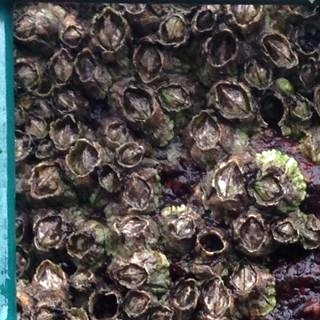Barnacle: (185, 113, 223, 154), (214, 81, 251, 120), (94, 10, 124, 51), (251, 171, 283, 207), (66, 139, 97, 175), (214, 161, 243, 199), (31, 163, 65, 195), (36, 262, 65, 299), (124, 172, 152, 209), (122, 88, 154, 120), (263, 35, 296, 66), (135, 41, 160, 81), (50, 116, 78, 151), (34, 215, 62, 249), (7, 60, 38, 90), (204, 278, 229, 315), (231, 260, 258, 294), (244, 55, 271, 88), (240, 215, 266, 249), (159, 15, 188, 45), (115, 263, 147, 288), (97, 163, 123, 192), (157, 85, 188, 109), (51, 50, 74, 82), (228, 1, 260, 23), (297, 56, 319, 86), (124, 291, 151, 315), (12, 13, 37, 38), (76, 50, 96, 81), (117, 143, 143, 166), (51, 86, 75, 110), (173, 215, 198, 238), (174, 282, 195, 309), (289, 98, 310, 123), (117, 216, 146, 234), (68, 232, 94, 252), (195, 9, 216, 33), (61, 23, 81, 46), (26, 117, 47, 138), (34, 304, 60, 319), (70, 267, 90, 286), (107, 121, 127, 140), (148, 305, 171, 319), (275, 222, 294, 238), (302, 229, 319, 246)
